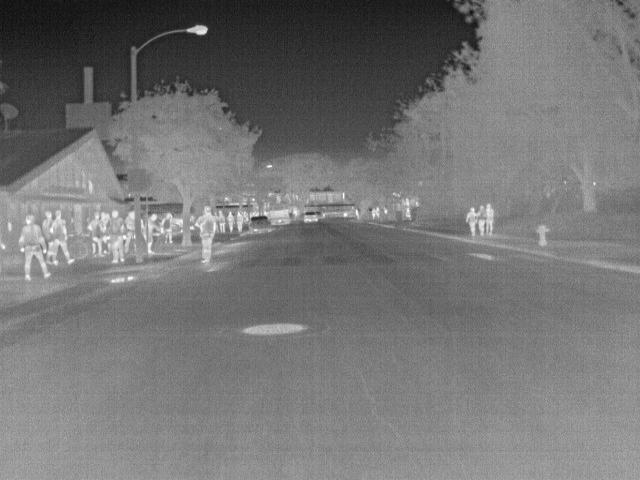car: (247, 213, 273, 232), (301, 211, 320, 224)
person: (17, 214, 54, 278), (46, 212, 76, 267), (105, 210, 127, 265), (198, 206, 218, 262), (85, 210, 104, 258), (122, 208, 138, 252), (144, 213, 160, 254), (483, 204, 498, 234), (162, 211, 176, 243), (466, 206, 479, 236), (475, 204, 488, 234), (225, 210, 238, 232), (233, 211, 245, 231), (217, 210, 227, 233), (405, 206, 414, 222)
